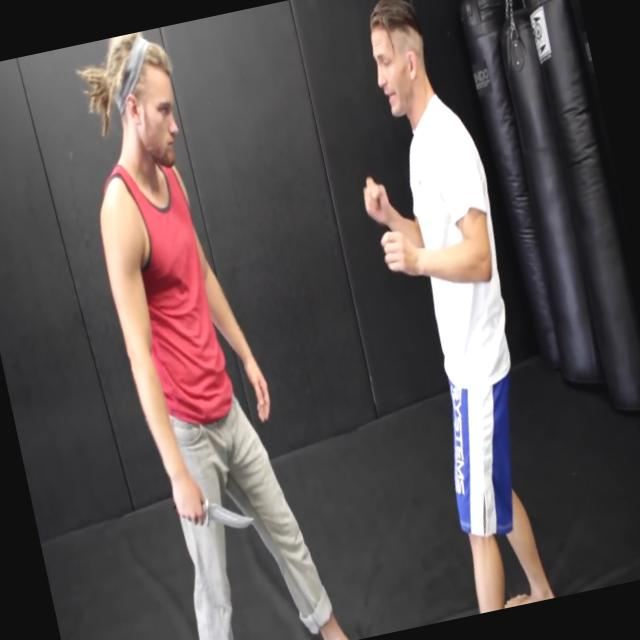knife: (164, 468, 263, 554)
